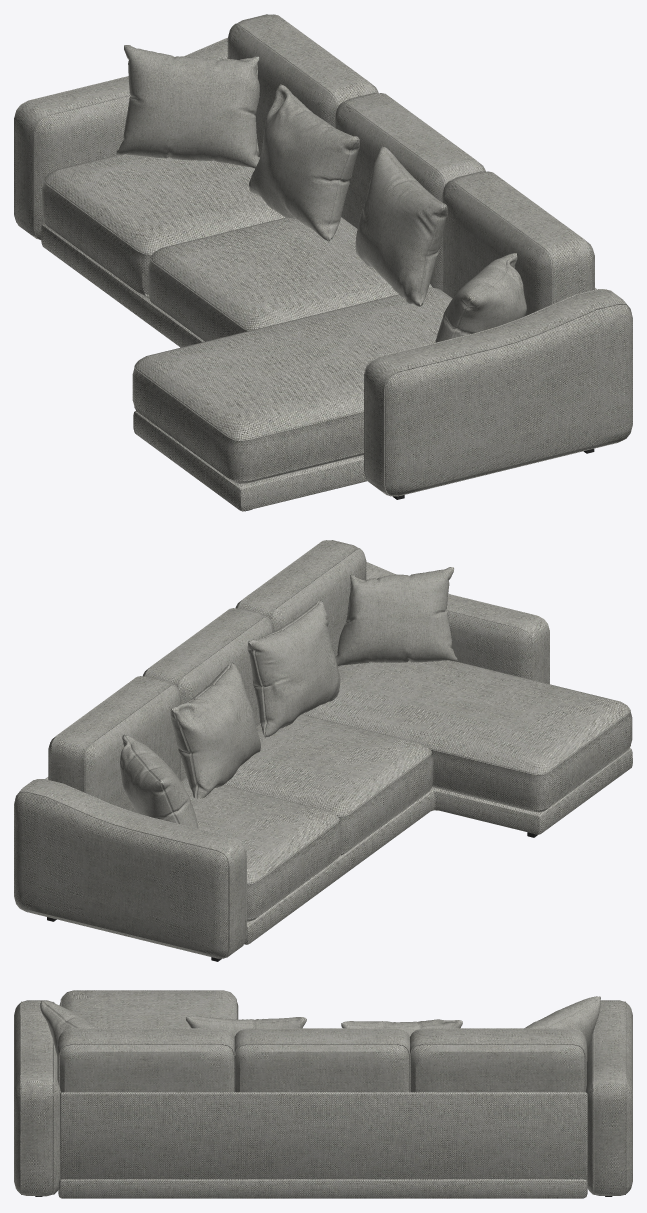
File: sofa1-transformed.glb
3 views of the same model, one above another, from view 1: azimuth 30°, elevation 25°; view 2: azimuth 150°, elevation 25°; view 3: azimuth 270°, elevation 25° (orthographic). The views are drawn at different scales.
Visible parts, largest first — view 1: pillow4; view 2: pillow4; view 3: pillow4.
Boxes of the visible parts, <box> form: pillow4: <box>14,14,632,511</box>; pillow4: <box>14,540,632,958</box>; pillow4: <box>14,990,632,1198</box>.
Bounding box in the file's own units: 1.61 × 0.8072 × 2.82.
2 materials, 1 textured.
